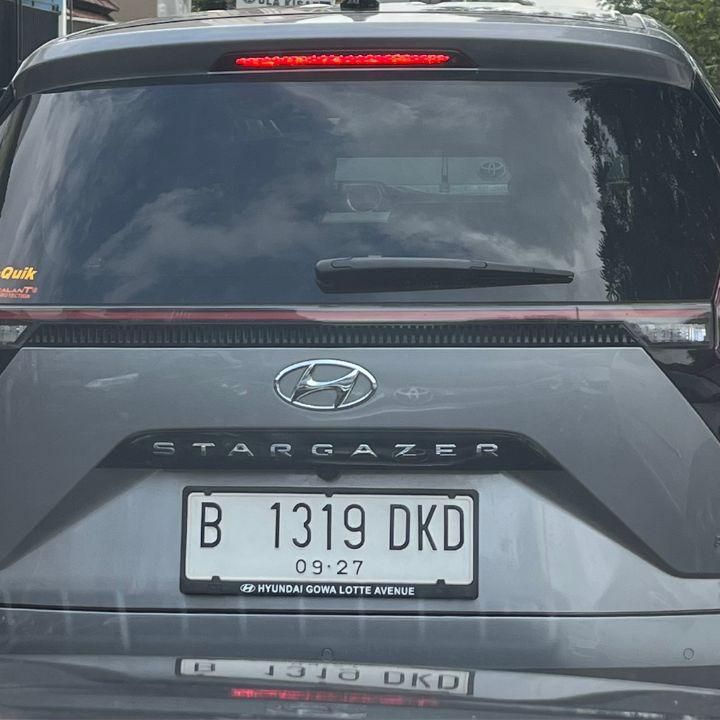plat: (181, 489, 477, 596)
